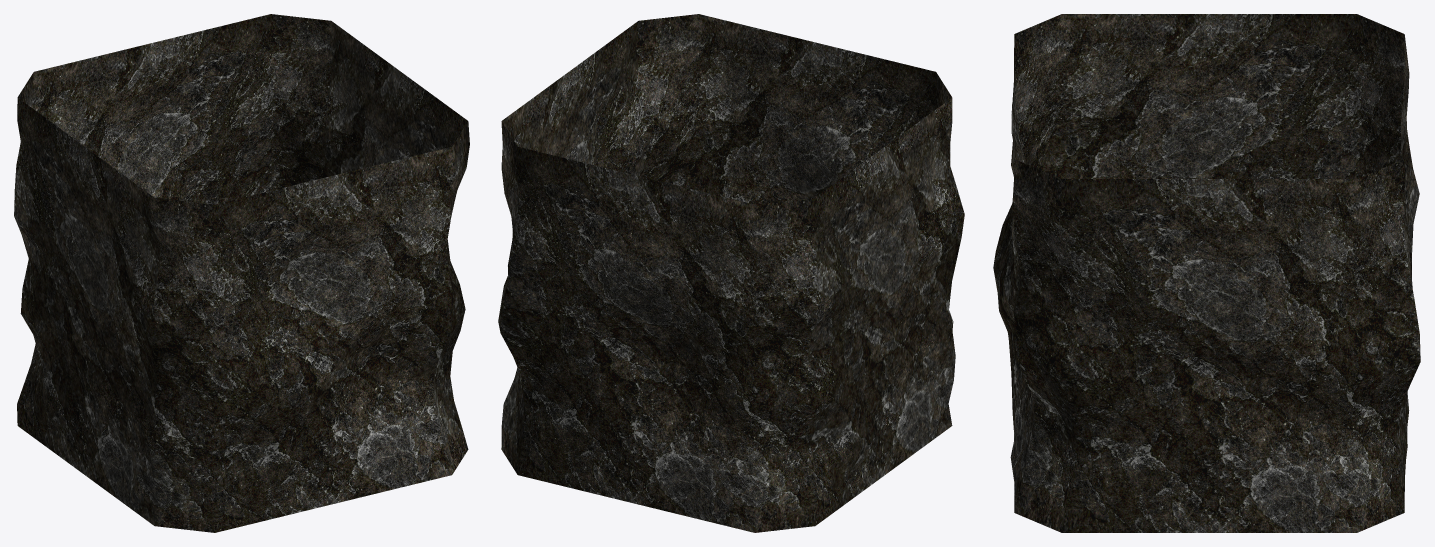
Rendered from Cave_017.fbx.
3 renders of one model, left to right at view 1: azimuth 30°, elevation 25°; view 2: azimuth 150°, elevation 25°; view 3: azimuth 270°, elevation 25°, orthographic. The views are drawn at different scales.
Parts seen in each view (by area): view 1: Cave.017; view 2: Cave.017; view 3: Cave.017.
Boxes of the visible parts, x1=… form: Cave.017: x1=14, y1=14, x2=469, y2=532; Cave.017: x1=498, y1=14, x2=964, y2=532; Cave.017: x1=993, y1=14, x2=1420, y2=532.
Bounding box in the file's own units: 313 × 300 × 328.
